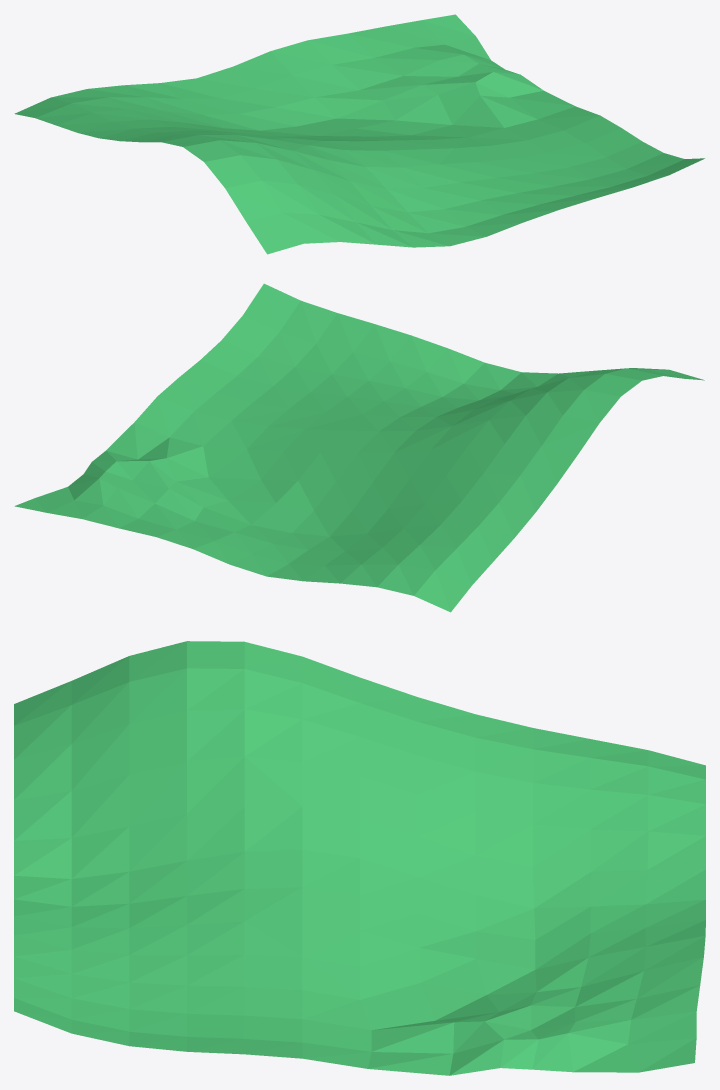
File: lowpolyland.fbx
3 views of the same model, one above another, from view 1: azimuth 30°, elevation 25°; view 2: azimuth 150°, elevation 25°; view 3: azimuth 270°, elevation 25° (orthographic). The views are drawn at different scales.
Visible parts, largest first — view 1: Plane; view 2: Plane; view 3: Plane.
Boxes of the visible parts, left/top/right/bottom form: Plane: left=14, top=14, right=704, bottom=254; Plane: left=14, top=283, right=704, bottom=612; Plane: left=14, top=641, right=705, bottom=1075.
Bounding box in the file's own units: 20003 × 4941 × 20000.
